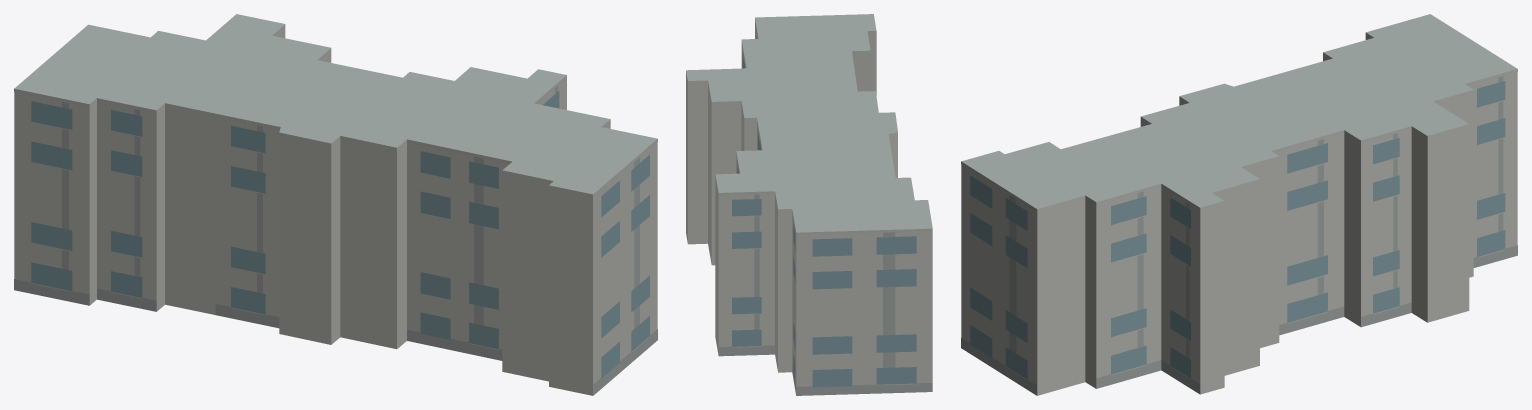
The model's file is residential-c8580622-6947-469d-805a-c289975ce5ad.glb.
3 views of the same model, side by side, from view 1: azimuth 30°, elevation 25°; view 2: azimuth 150°, elevation 25°; view 3: azimuth 270°, elevation 25° (orthographic). The views are drawn at different scales.
Parts seen in each view (by area): view 1: residential-c8580622-6947-469d-805a-c289975ce5ad.tmp; view 2: residential-c8580622-6947-469d-805a-c289975ce5ad.tmp; view 3: residential-c8580622-6947-469d-805a-c289975ce5ad.tmp.
Boxes of the visible parts, <box> form: residential-c8580622-6947-469d-805a-c289975ce5ad.tmp: <box>14,14,657,395</box>; residential-c8580622-6947-469d-805a-c289975ce5ad.tmp: <box>686,14,932,395</box>; residential-c8580622-6947-469d-805a-c289975ce5ad.tmp: <box>961,14,1517,395</box>.
Bounding box in the file's own units: 34.18 × 15.25 × 41.2.
